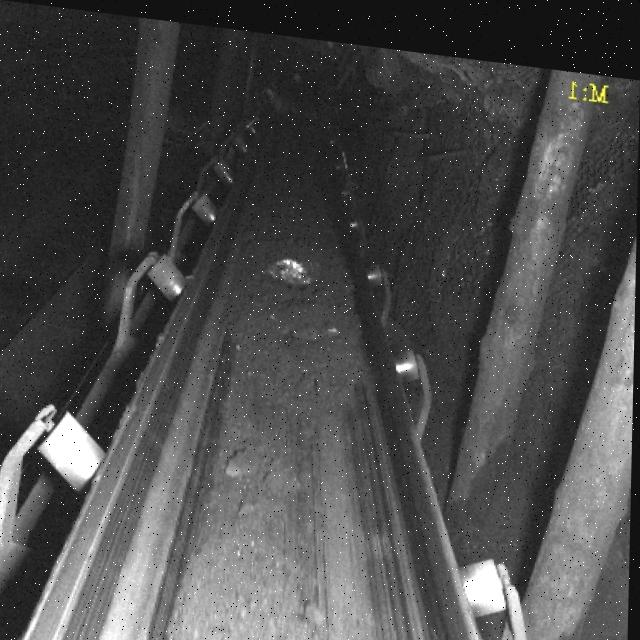large_sized_coal: (258, 243, 318, 281)
